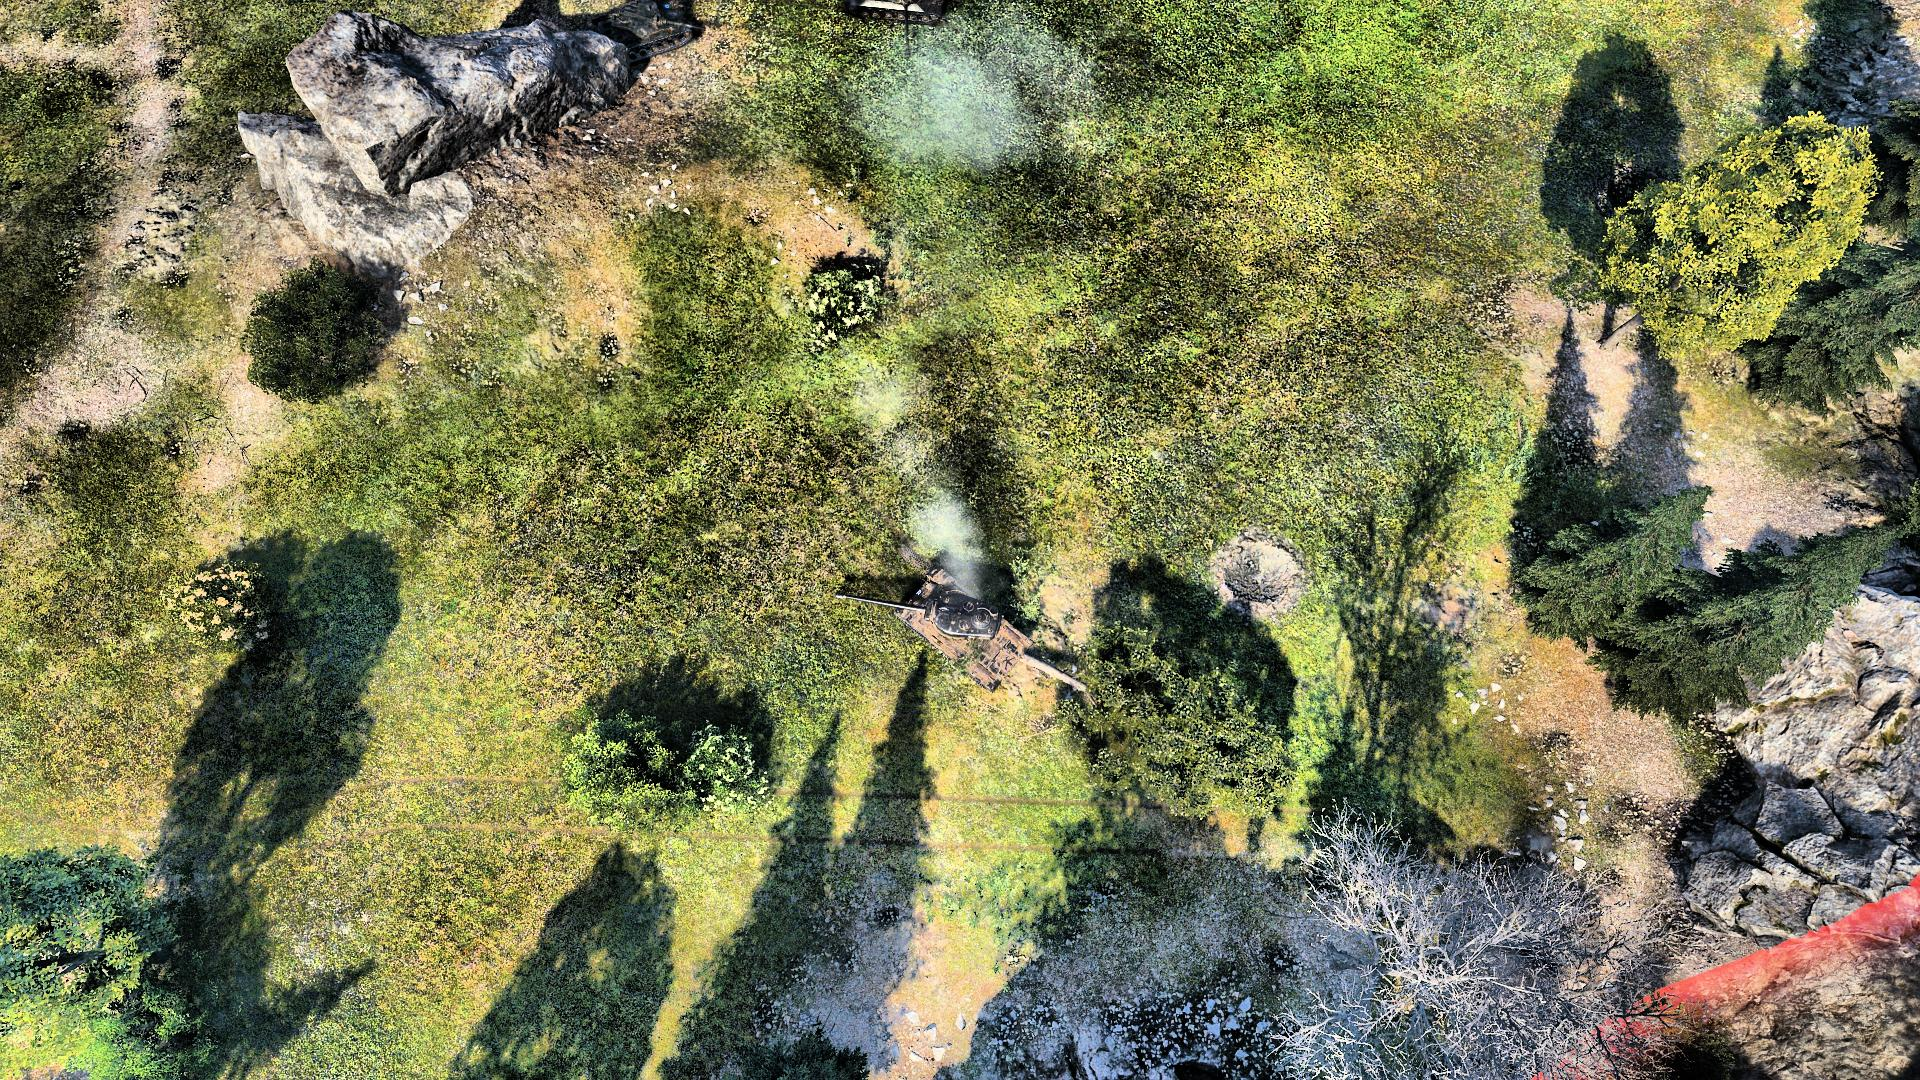military-vehicle: (839, 558, 1035, 695), (576, 0, 712, 69)
